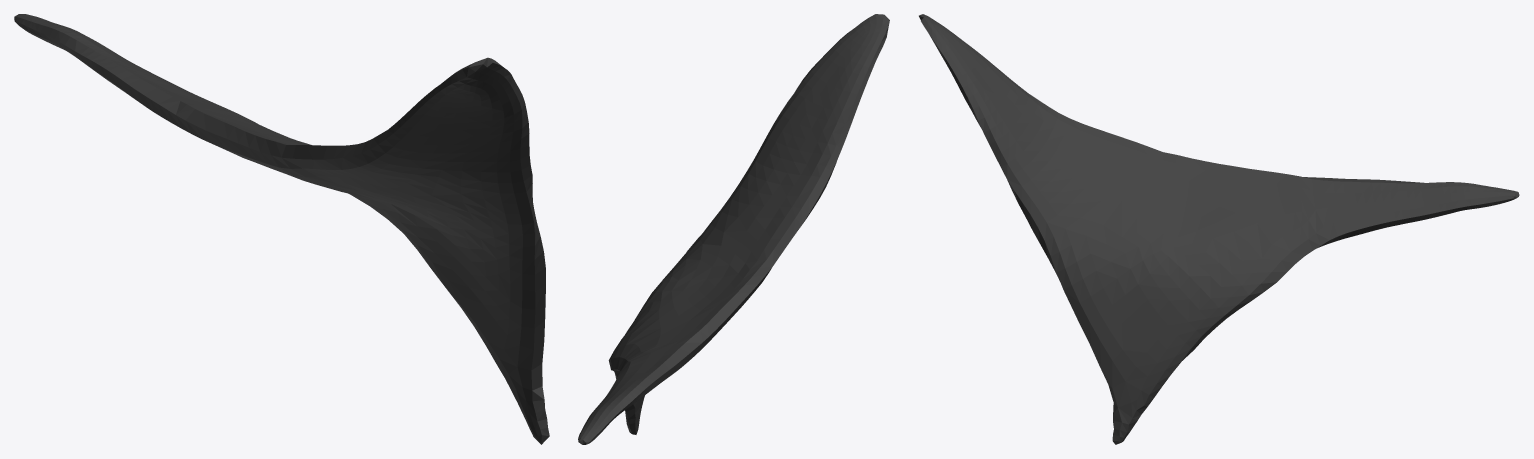
Rendered from Trapezius_1.glb.
3 views of the same model, side by side, from view 1: azimuth 30°, elevation 25°; view 2: azimuth 150°, elevation 25°; view 3: azimuth 270°, elevation 25° (orthographic). The views are drawn at different scales.
Visible parts, largest first — view 1: Trapezius_1; view 2: Trapezius_1; view 3: Trapezius_1.
Boxes of the visible parts, x1,y1,x2,y2 form: Trapezius_1: [14, 14, 549, 444]; Trapezius_1: [578, 14, 889, 444]; Trapezius_1: [919, 14, 1519, 444].
Bounding box in the file's own units: 0.4224 × 0.9132 × 1.37.
Materials: 1 (1 with a texture image).
